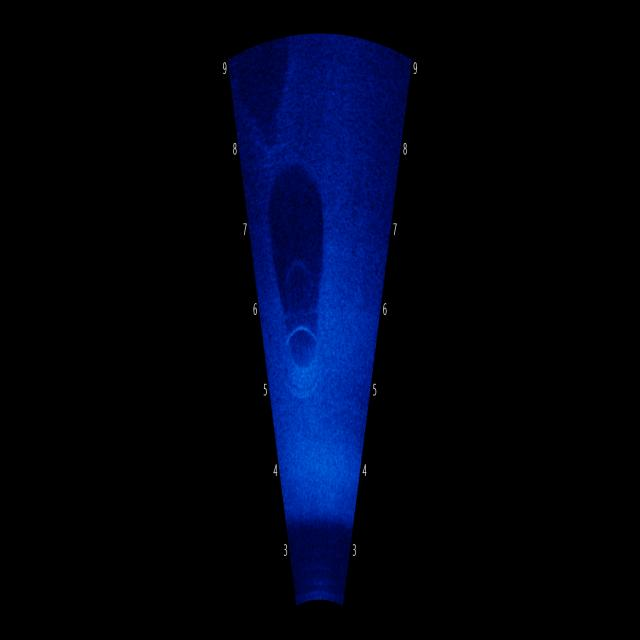circle: (273, 303, 332, 413)
